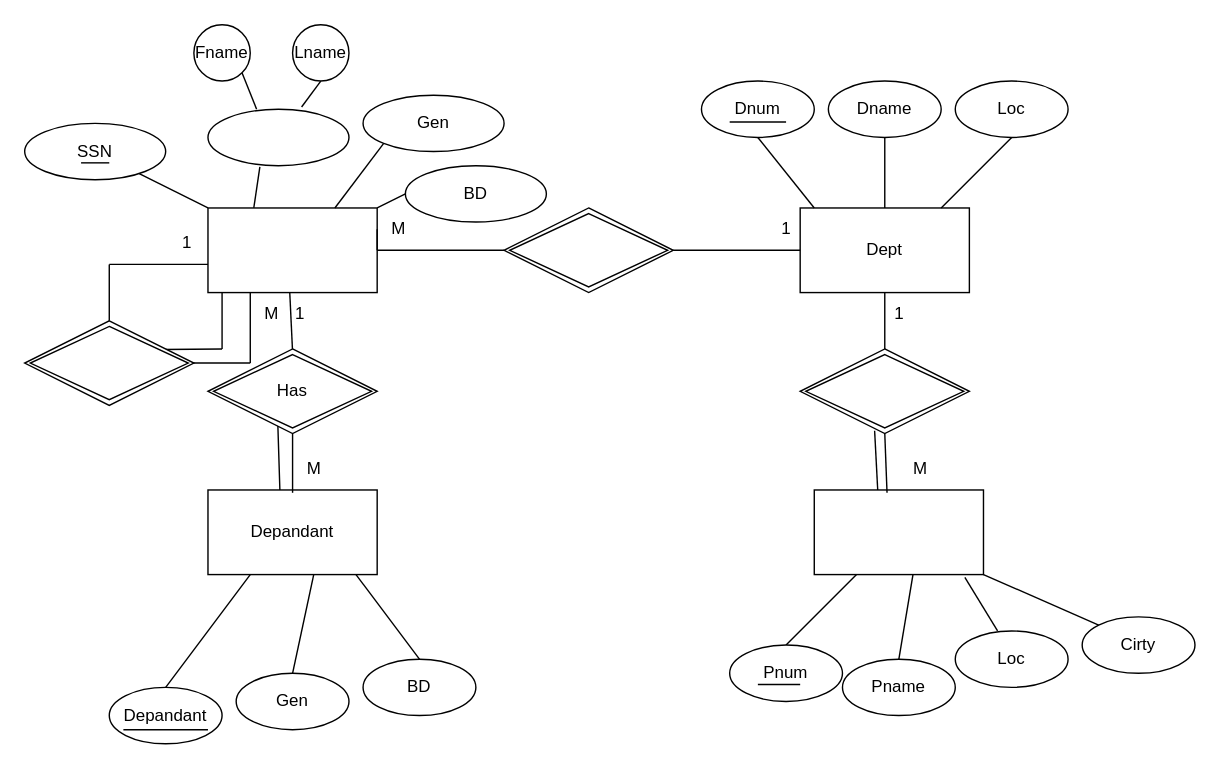
Image size: 1220x768. Some labels were removed from this diagram. The box of each missing label's shape, as (x1, y1, x2, y2) in pixels:
Employee: (207, 207, 377, 293)
have: (799, 348, 969, 434)
name: (207, 108, 349, 166)
Project: (813, 489, 983, 575)
Super: (23, 319, 194, 405)
Work: (503, 207, 673, 293)
